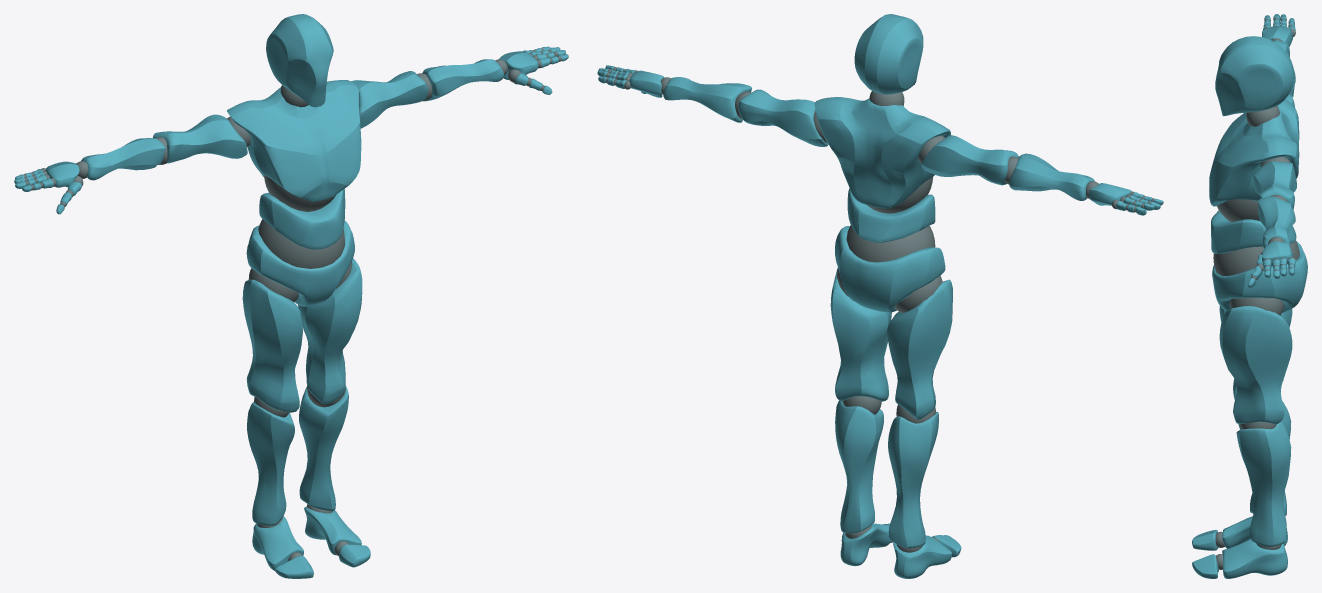
The model's file is ybot.gltf.
The picture shows the model from 3 angles, left to right: view 1: azimuth 30°, elevation 25°; view 2: azimuth 150°, elevation 25°; view 3: azimuth 270°, elevation 25°; orthographic projection. The views are drawn at different scales.
Visible parts, largest first — view 1: Alpha_Surface, Alpha_Joints; view 2: Alpha_Surface, Alpha_Joints; view 3: Alpha_Surface, Alpha_Joints.
Part boxes in pixels (x1,y1,x2,y2): Alpha_Surface: [14, 14, 568, 578]; Alpha_Joints: [23, 48, 561, 560]; Alpha_Surface: [597, 14, 1163, 578]; Alpha_Joints: [605, 67, 1154, 552]; Alpha_Surface: [1192, 14, 1307, 578]; Alpha_Joints: [1213, 17, 1299, 569].
Bounding box in the file's own units: 195 × 180 × 36.43.
